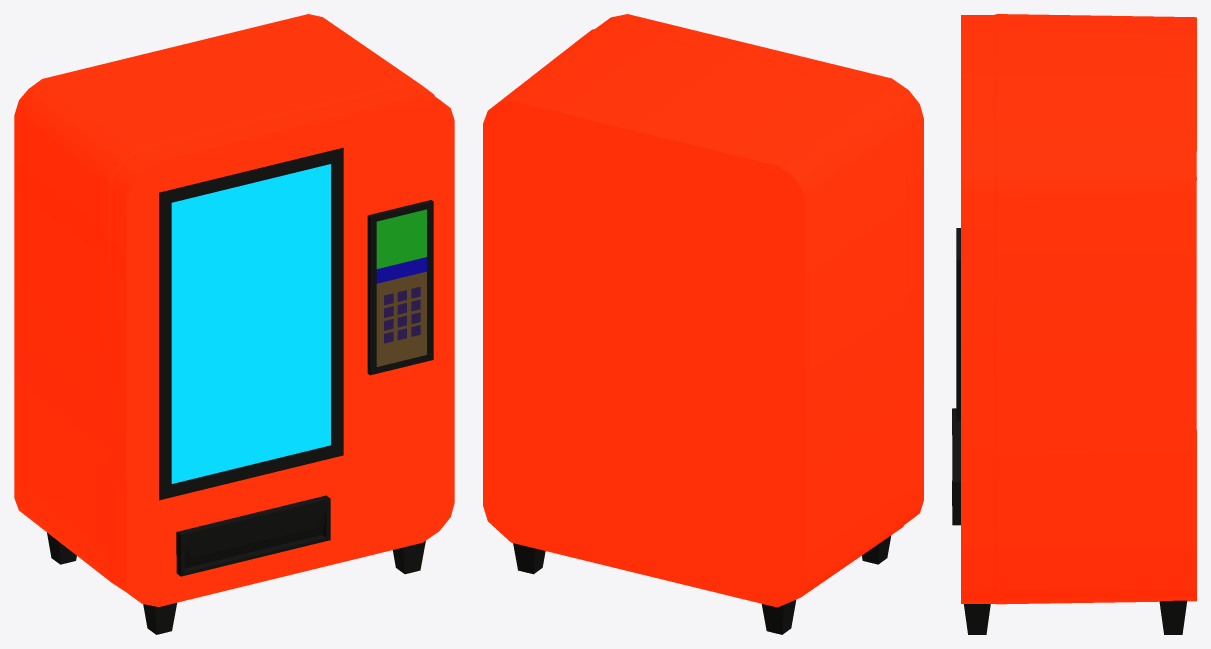
Rendered from VedingMachine LOW.fbx.
3 renders of one model, left to right at view 1: azimuth 30°, elevation 25°; view 2: azimuth 150°, elevation 25°; view 3: azimuth 270°, elevation 25°, orthographic. The views are drawn at different scales.
Parts seen in each view (by area): view 1: Vending_M_L; view 2: Vending_M_L; view 3: Vending_M_L.
Boxes of the visible parts, <box> form: Vending_M_L: <box>14,14,454,634</box>; Vending_M_L: <box>483,14,923,634</box>; Vending_M_L: <box>952,14,1196,634</box>.
Size of the model in its own units: 160 by 101 by 221.
